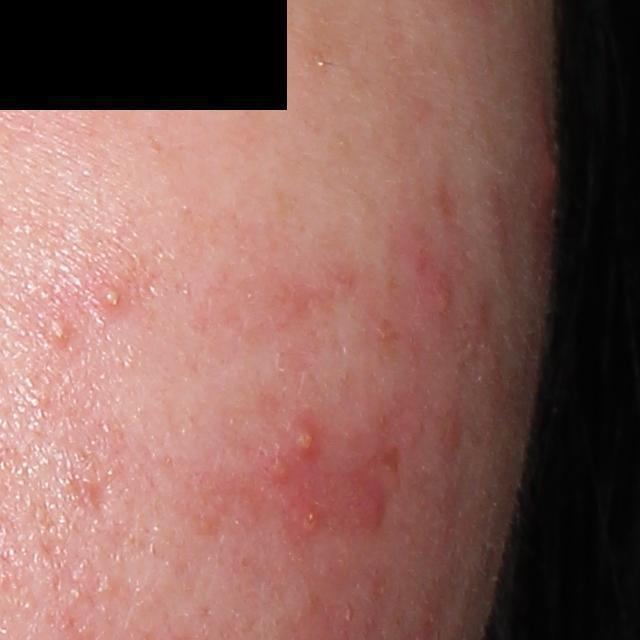atrophic_scar: (85, 472, 121, 510)
pustule: (291, 425, 314, 453), (105, 286, 121, 306)
